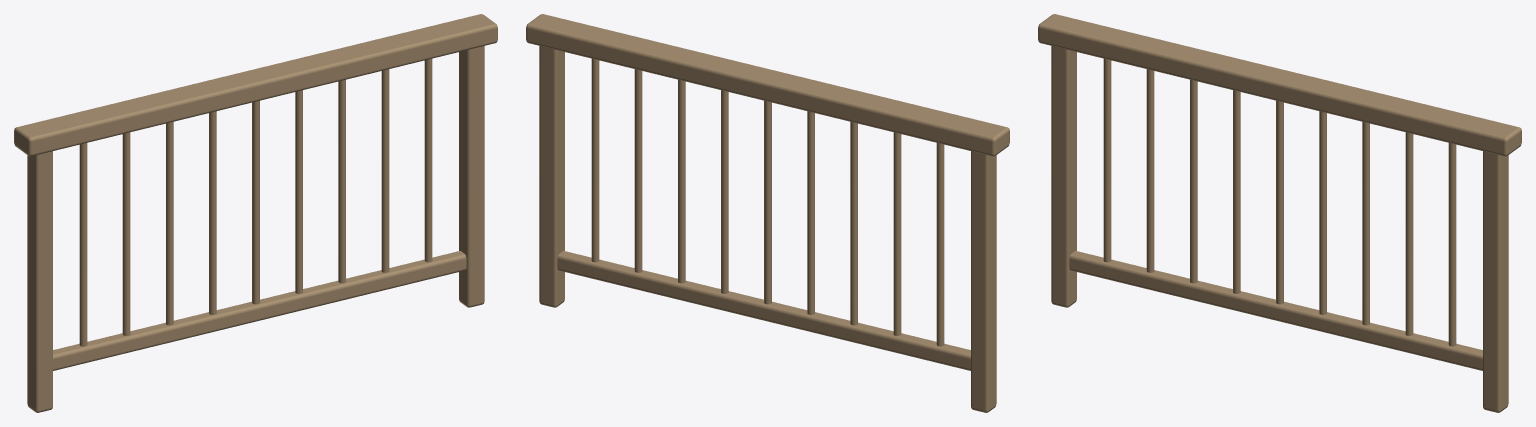
Rendered from railing.glb.
3 renders of one model, left to right at view 1: azimuth 30°, elevation 25°; view 2: azimuth 150°, elevation 25°; view 3: azimuth 330°, elevation 25°, orthographic.
Visible parts, largest first — view 1: continuous-handrail, receiving-lower-rail, grounded-post--0-9, grounded-post-0-9, baluster-7, baluster-1, baluster-8, baluster-0, baluster-2, baluster-4, baluster-3, baluster-6 (+1 smaller); view 2: continuous-handrail, receiving-lower-rail, grounded-post--0-9, grounded-post-0-9, baluster-7, baluster-1, baluster-8, baluster-0, baluster-2, baluster-4, baluster-3, baluster-6 (+1 smaller); view 3: continuous-handrail, receiving-lower-rail, grounded-post-0-9, grounded-post--0-9, baluster-1, baluster-0, baluster-7, baluster-8, baluster-6, baluster-4, baluster-2, baluster-5 (+1 smaller).
Part boxes in pixels (left/top/right/bottom): continuous-handrail: left=14, top=14, right=497, bottom=156; receiving-lower-rail: left=53, top=251, right=466, bottom=370; grounded-post--0-9: left=27, top=151, right=52, bottom=412; grounded-post-0-9: left=459, top=46, right=484, bottom=307; baluster-7: left=381, top=69, right=389, bottom=272; baluster-1: left=122, top=132, right=130, bottom=335; baluster-8: left=424, top=58, right=432, bottom=262; baluster-0: left=79, top=143, right=87, bottom=346; baluster-2: left=166, top=121, right=173, bottom=325; baluster-4: left=252, top=100, right=259, bottom=304; baluster-3: left=209, top=111, right=216, bottom=314; baluster-6: left=338, top=79, right=345, bottom=283; continuous-handrail: left=526, top=14, right=1009, bottom=156; receiving-lower-rail: left=557, top=251, right=970, bottom=370; grounded-post--0-9: left=971, top=151, right=996, bottom=412; grounded-post-0-9: left=539, top=46, right=564, bottom=307; baluster-7: left=634, top=69, right=642, bottom=272; baluster-1: left=893, top=132, right=901, bottom=335; baluster-8: left=591, top=58, right=599, bottom=262; baluster-0: left=936, top=143, right=944, bottom=346; baluster-2: left=850, top=121, right=857, bottom=325; baluster-4: left=764, top=100, right=771, bottom=304; baluster-3: left=807, top=111, right=814, bottom=314; baluster-6: left=678, top=79, right=685, bottom=283; continuous-handrail: left=1038, top=14, right=1521, bottom=156; receiving-lower-rail: left=1069, top=251, right=1482, bottom=370; grounded-post-0-9: left=1483, top=151, right=1508, bottom=412; grounded-post--0-9: left=1051, top=46, right=1076, bottom=307; baluster-1: left=1146, top=69, right=1154, bottom=272; baluster-0: left=1103, top=58, right=1111, bottom=262; baluster-7: left=1405, top=132, right=1413, bottom=335; baluster-8: left=1448, top=143, right=1456, bottom=346; baluster-6: left=1362, top=121, right=1369, bottom=325; baluster-4: left=1276, top=100, right=1283, bottom=304; baluster-2: left=1190, top=79, right=1197, bottom=283; baluster-5: left=1319, top=111, right=1326, bottom=314.
Size of the model in its own units: 1.96 by 1.12 by 0.12.
